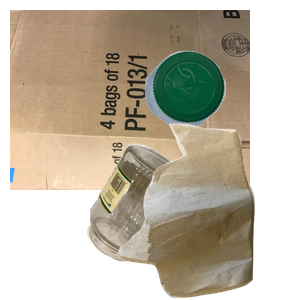cardboard: (10, 10, 250, 190)
glass: (85, 141, 275, 300)
plastic: (142, 48, 300, 169)
trash: (114, 121, 300, 300)
